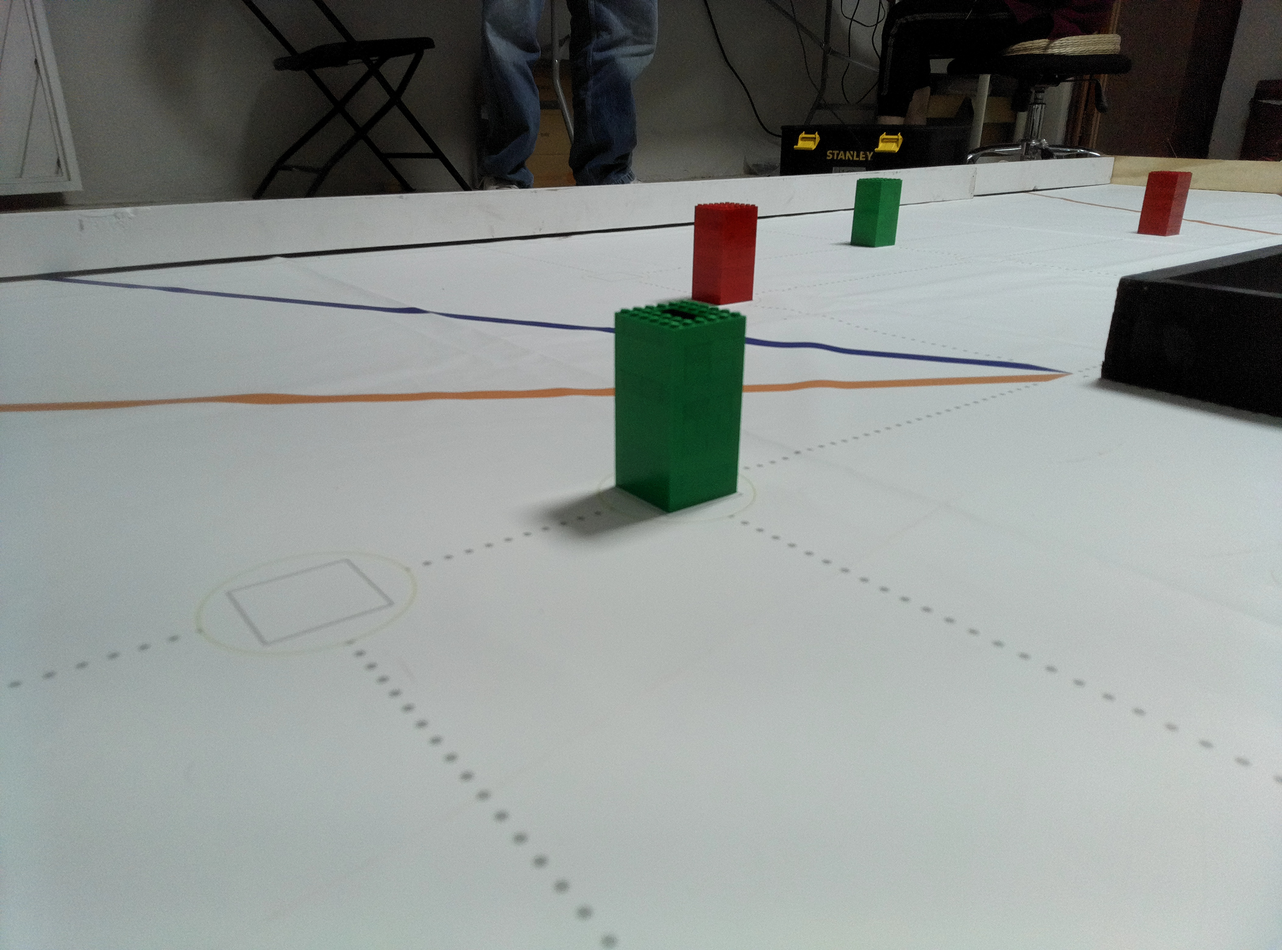greenbox: (610, 297, 750, 518), (849, 177, 902, 248)
redbox: (691, 201, 759, 306), (1135, 170, 1193, 238)
